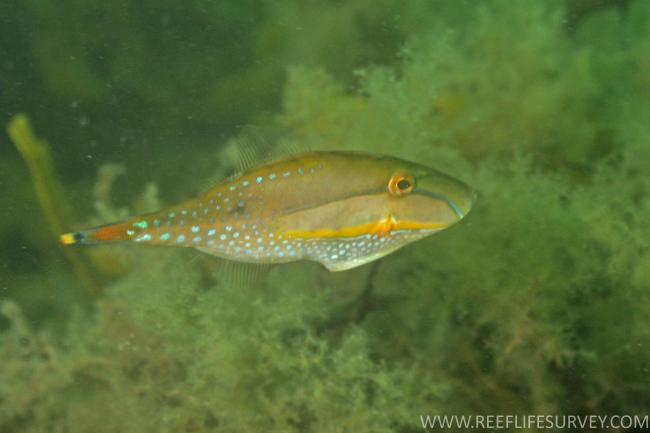fish: (60, 151, 481, 273)
